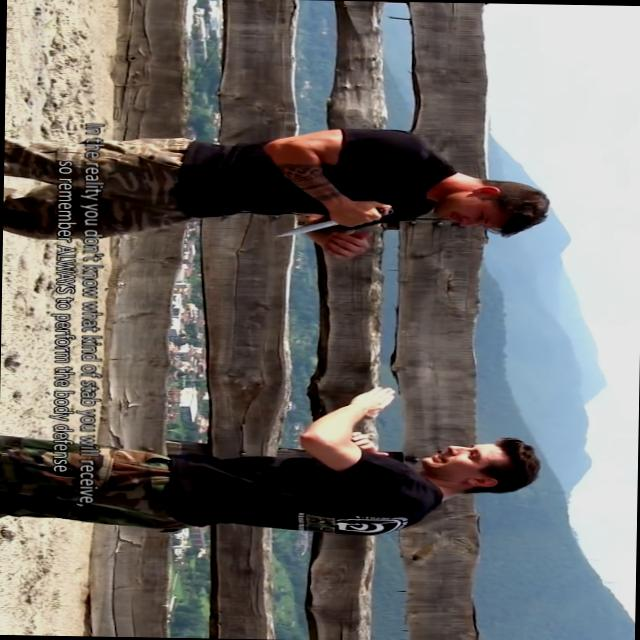knife: (269, 199, 398, 239)
